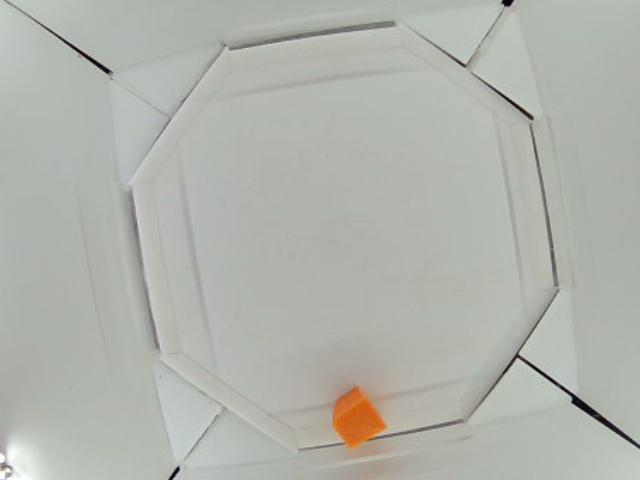Carrot: (330, 390, 387, 450)
